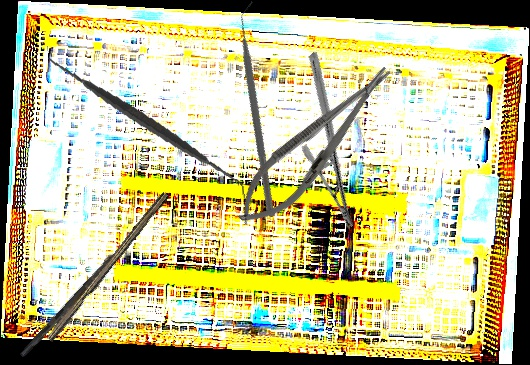Chopper: (156, 0, 367, 219)
Hook Surgical: (19, 230, 137, 360)
Needle Holder: (224, 52, 407, 240), (244, 50, 419, 231)
Scalpel Handle: (43, 188, 170, 344)
Spatula Surgical: (46, 24, 246, 221)
